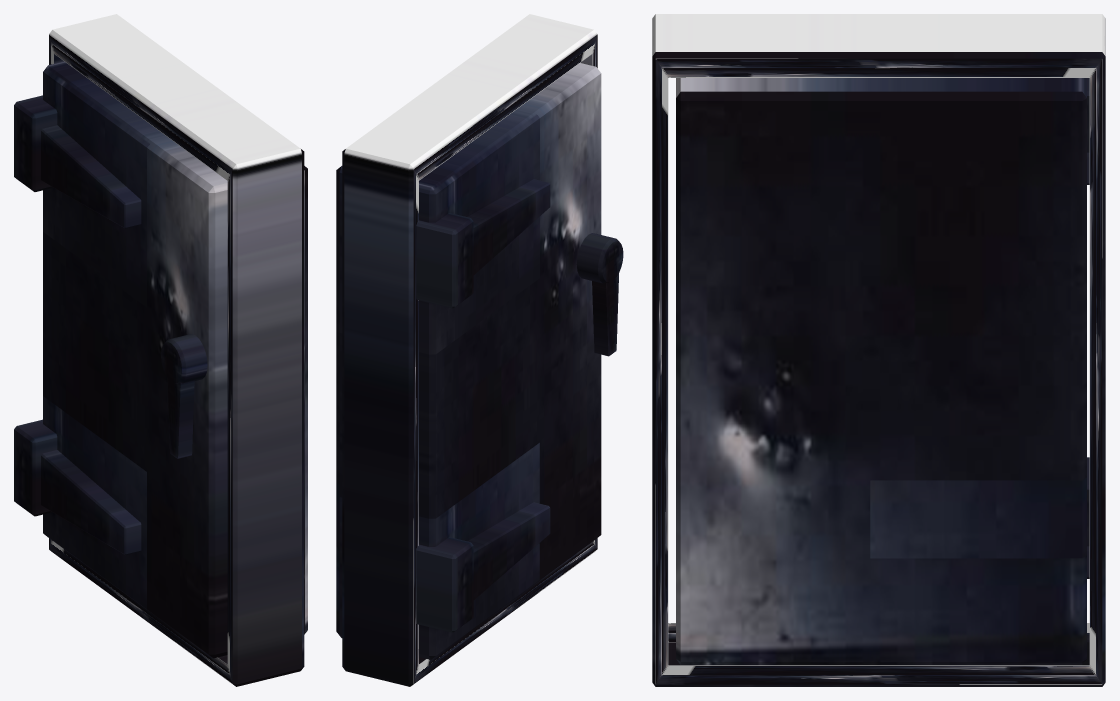
The model's file is meatlockerdoor.fbx.
3 views of the same model, side by side, from view 1: azimuth 30°, elevation 25°; view 2: azimuth 150°, elevation 25°; view 3: azimuth 270°, elevation 25° (orthographic). The views are drawn at different scales.
Visible parts, largest first — view 1: meatlockerdoorMesh, meatlockerdoorframeMesh, polySurface6, meatlockerdoorhandleMesh; view 2: meatlockerdoorMesh, meatlockerdoorframeMesh, polySurface6, meatlockerdoorhandleMesh; view 3: meatlockerdoorMesh, meatlockerdoorframeMesh.
Part boxes in pixels (x1=…): meatlockerdoorMesh: x1=14, y1=61, x2=307, y2=658; meatlockerdoorframeMesh: x1=49, y1=14, x2=304, y2=686; polySurface6: x1=161, y1=334, x2=207, y2=383; meatlockerdoorhandleMesh: x1=167, y1=378, x2=194, y2=458; meatlockerdoorMesh: x1=336, y1=63, x2=601, y2=659; meatlockerdoorframeMesh: x1=342, y1=14, x2=597, y2=686; polySurface6: x1=576, y1=233, x2=623, y2=283; meatlockerdoorhandleMesh: x1=592, y1=273, x2=618, y2=356; meatlockerdoorMesh: x1=676, y1=78, x2=1089, y2=665; meatlockerdoorframeMesh: x1=652, y1=14, x2=1105, y2=686.
Size of the model in its own units: 68.58 by 277 by 179.
